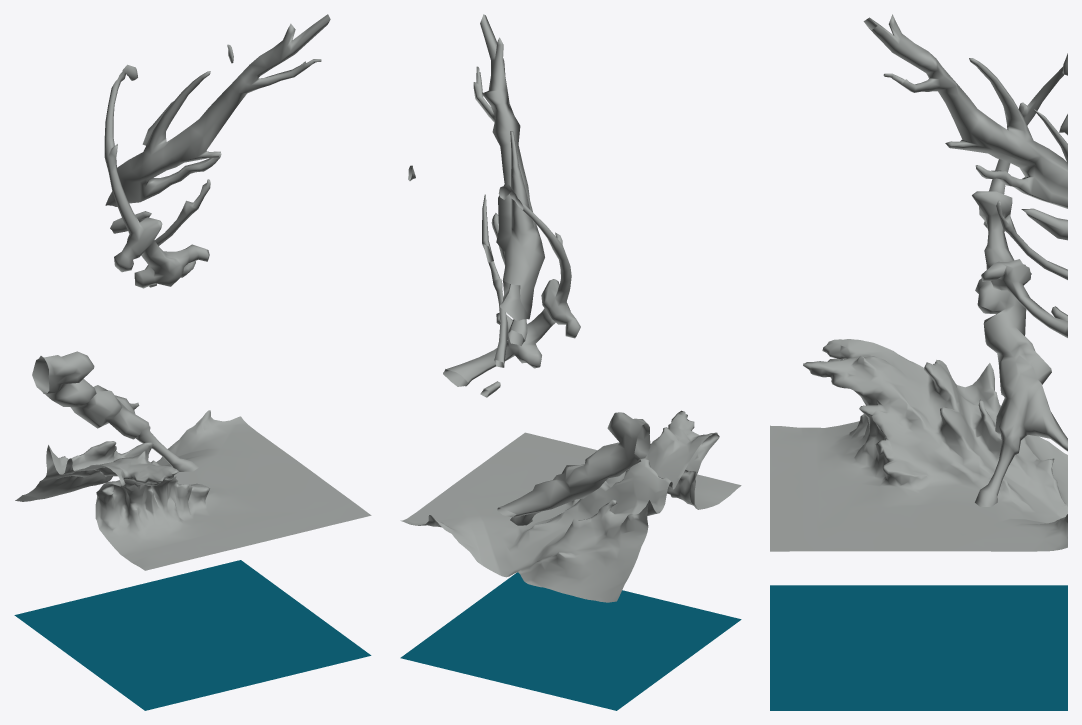
3 views of the same model, side by side, from view 1: azimuth 30°, elevation 25°; view 2: azimuth 150°, elevation 25°; view 3: azimuth 270°, elevation 25° (orthographic). The views are drawn at different scales.
Parts seen in each view (by area): view 1: G:\FFXIV-MapTools\exports\s1f3\bg\ffxiv\sea_s1\fld\s1f3\bgpl (×19); view 2: G:\FFXIV-MapTools\exports\s1f3\bg\ffxiv\sea_s1\fld\s1f3\bgpl (×19); view 3: G:\FFXIV-MapTools\exports\s1f3\bg\ffxiv\sea_s1\fld\s1f3\bgpl (×22).
Part boxes in pixels (<box>): G:\FFXIV-MapTools\exports\s1f3\bg\ffxiv\sea_s1\fld\s1f3\bgpl (×19): <box>14,14,371,710</box>; G:\FFXIV-MapTools\exports\s1f3\bg\ffxiv\sea_s1\fld\s1f3\bgpl (×19): <box>400,14,741,710</box>; G:\FFXIV-MapTools\exports\s1f3\bg\ffxiv\sea_s1\fld\s1f3\bgpl (×22): <box>770,14,1067,710</box>.
Size of the model in its own units: 128 by 329 by 128.
